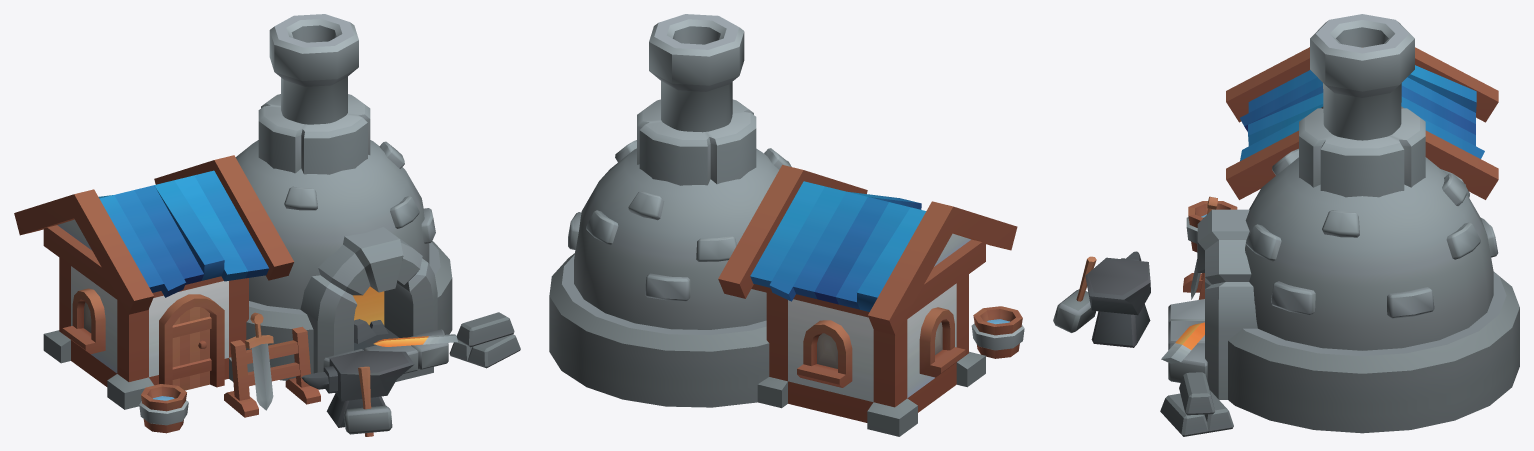
The model's file is smithy.glb.
The picture shows the model from 3 angles, left to right: view 1: azimuth 30°, elevation 25°; view 2: azimuth 150°, elevation 25°; view 3: azimuth 270°, elevation 25°; orthographic projection. The views are drawn at different scales.
Parts seen in each view (by area): view 1: building_blacksmith_blue; view 2: building_blacksmith_blue; view 3: building_blacksmith_blue.
Part boxes in pixels (x1,y1,x2,y2): building_blacksmith_blue: (14,14,520,436); building_blacksmith_blue: (549,14,1024,436); building_blacksmith_blue: (1053,14,1519,436).
Bounding box in the file's own units: 1.29 × 0.9852 × 1.25.
1 material, 1 textured.
